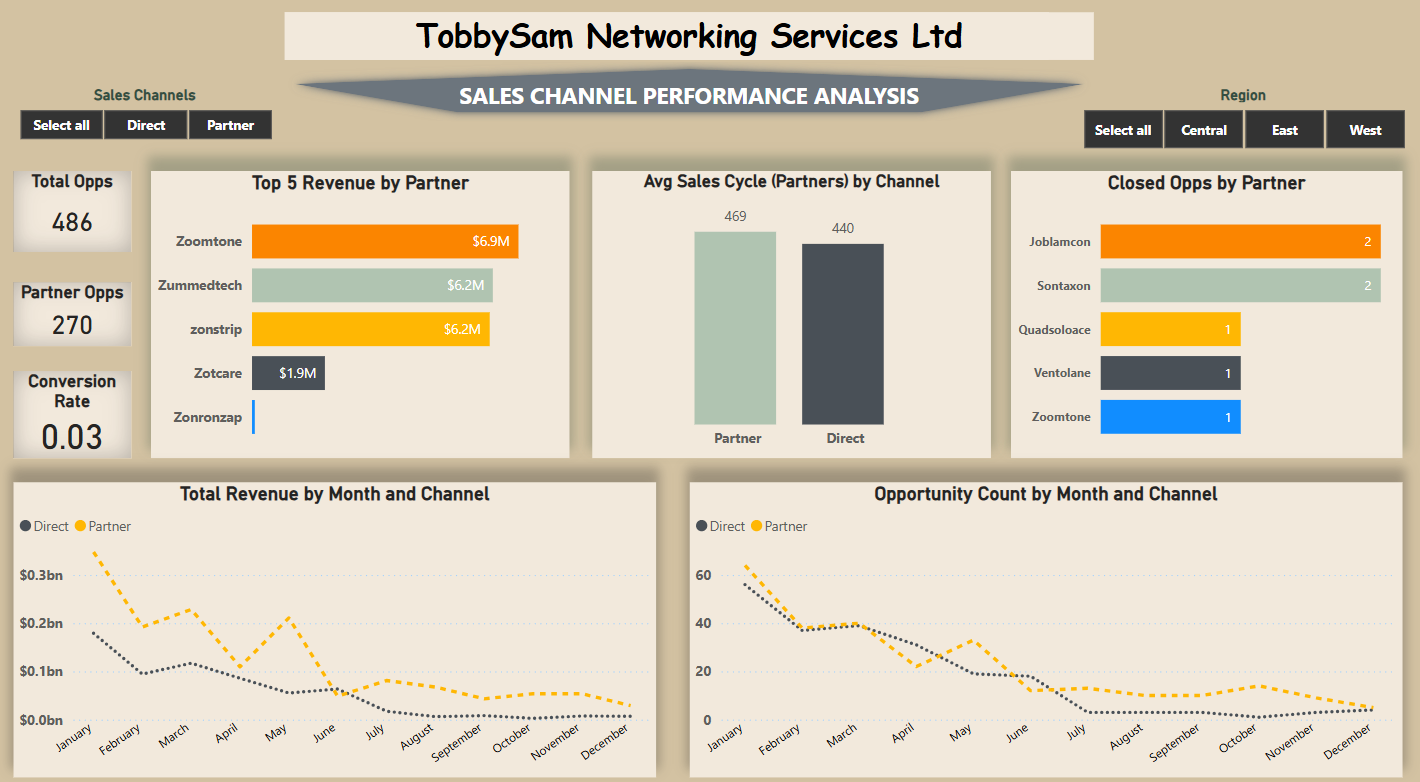

Layout of this report page (visuals, bound fields, positions):
{"tool":"powerbi","page":{"name":"Partner","canvas":[1280,720],"ordinal":1},"visuals":[{"type":"barChart","title":"Top 5 Revenue by Partner","fields":{"Y":["Fact.Total Revenue"],"Category":["Partner.Partner"]},"box":[142.2,173.3,372.2,255.6],"z":0},{"type":"barChart","fields":{"Y":["Fact.Closed Opps"],"Category":["Partner.Partner"]},"box":[906.7,173.3,347.8,255.6],"z":1000},{"type":"lineChart","fields":{"Category":["Fact.Create Date.Variation.Date Hierarchy.Month"],"Y":["Fact.Opportunity Count"],"Series":["Fact.Channel"]},"box":[621.1,450,633.3,262.2],"z":2000},{"type":"lineChart","fields":{"Category":["Fact.Create Date.Variation.Date Hierarchy.Month"],"Series":["Fact.Channel"],"Y":["Fact.Total Revenue"]},"box":[20,450,571.1,262.2],"z":3000},{"type":"columnChart","fields":{"Y":["Fact.Avg Sales Cycle (Partners)"],"Category":["Fact.Channel"]},"box":[534.4,173.3,354.4,255.6],"z":4000},{"type":"card","title":"Total Opps","fields":{"Values":["Fact.Total Opps"]},"box":[20,173.3,104.4,72.2],"z":5000},{"type":"card","title":"Conversion Rate","fields":{"Values":["Fact.Conversion Rate"]},"box":[20,351.1,104.4,77.8],"z":6000},{"type":"card","title":"Partner Opps","fields":{"Values":["Sales Stage.Partner Opps"]},"box":[20,272.2,104.4,56.7],"z":7000},{"type":"shape","title":"TobbySam Networking Services Ltd","box":[261.1,32.2,718.9,96.7],"z":8000},{"type":"slicer","title":"Region","fields":{"Values":["Account.Region"]},"box":[945,97.8,335,62.2],"z":9000},{"type":"slicer","title":"Sales Channels","fields":{"Values":["Fact.Channel"]},"box":[0,97.8,273.3,51.1],"z":10000}]}

Visuals, with their boxes in screenshot pixels (x1, y1, x2, y2), scaled from the page's 1280x720 canvas onto the 1420x782 screenshot:
"Top 5 Revenue by Partner" barChart: <region>158, 188, 571, 466</region>
barChart - Fact.Closed Opps x Partner.Partner: <region>1006, 188, 1392, 466</region>
lineChart - Fact.Create Date.Variation.Date Hierarchy.Month x Fact.Opportunity Count: <region>689, 489, 1392, 774</region>
lineChart - Fact.Create Date.Variation.Date Hierarchy.Month x Fact.Channel: <region>22, 489, 656, 774</region>
columnChart - Fact.Avg Sales Cycle (Partners) x Fact.Channel: <region>593, 188, 986, 466</region>
"Total Opps" card: <region>22, 188, 138, 267</region>
"Conversion Rate" card: <region>22, 381, 138, 466</region>
"Partner Opps" card: <region>22, 296, 138, 357</region>
"TobbySam Networking Services Ltd" shape: <region>290, 35, 1087, 140</region>
"Region" slicer: <region>1048, 106, 1419, 174</region>
"Sales Channels" slicer: <region>0, 106, 303, 162</region>
